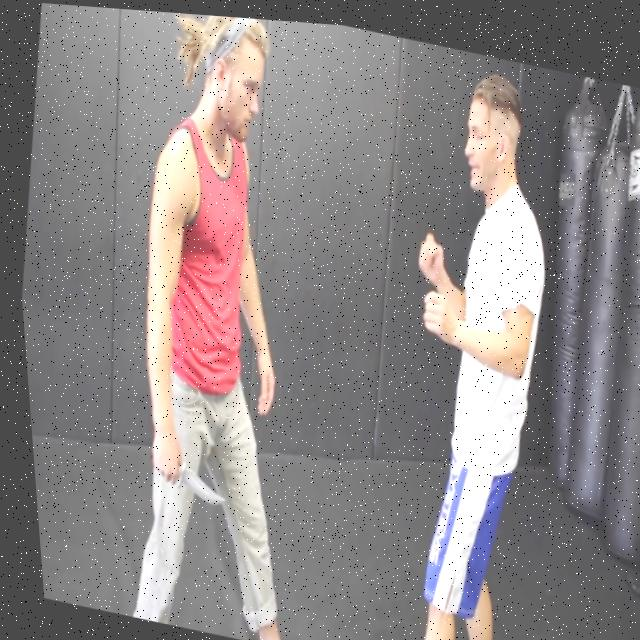knife: (166, 457, 223, 506)
